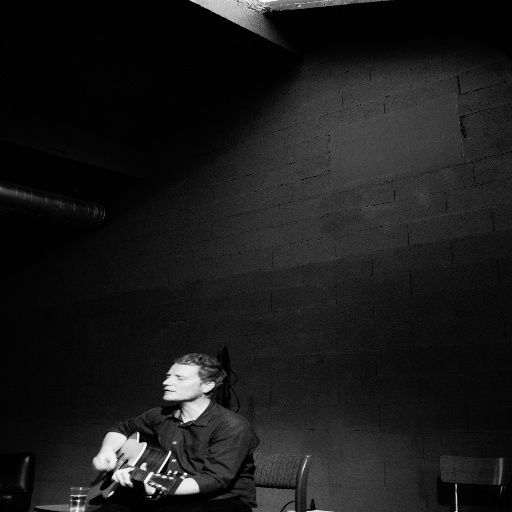hand: (110, 461, 148, 488), (86, 449, 117, 471)
